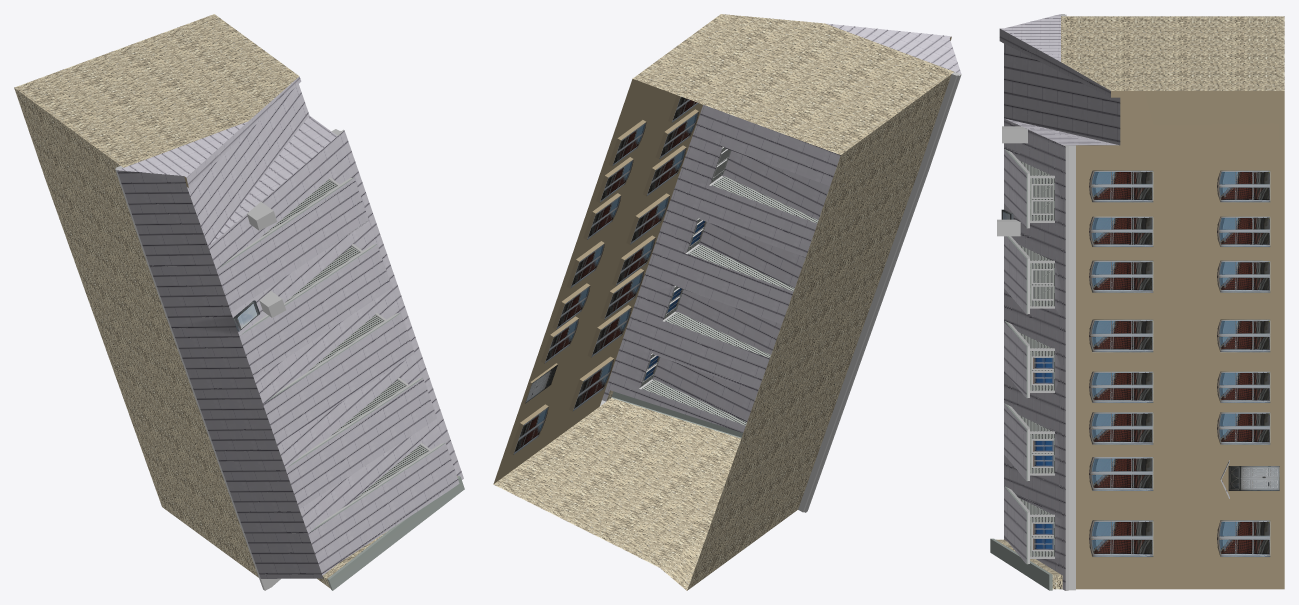
The model's file is Uus_15_2.obj.
3 renders of one model, left to right at view 1: azimuth 30°, elevation 25°; view 2: azimuth 150°, elevation 25°; view 3: azimuth 270°, elevation 25°, orthographic. The views are drawn at different scales.
Parts seen in each view (by area): view 1: Uus15; view 2: Uus15; view 3: Uus15.
Part boxes in pixels (x1,y1,x2,y2): Uus15: [14, 14, 464, 590]; Uus15: [493, 14, 961, 590]; Uus15: [990, 14, 1284, 590].
Bounding box in the file's own units: 21.73 × 28.66 × 15.53.
